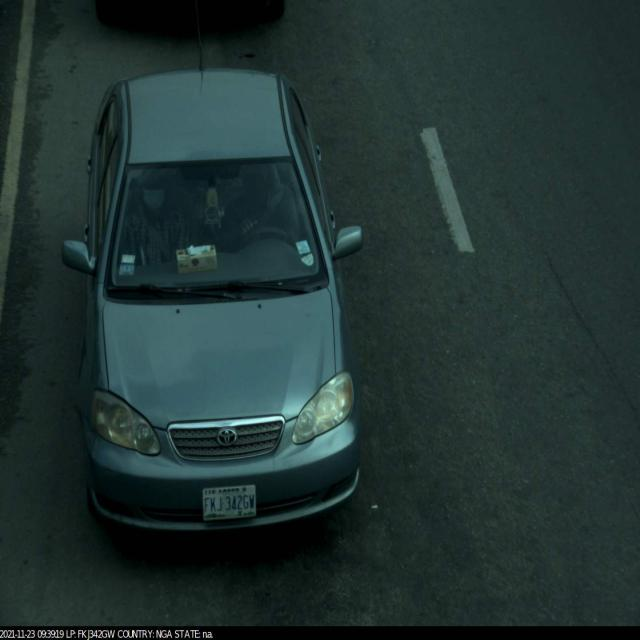windshield: (97, 150, 334, 314)
